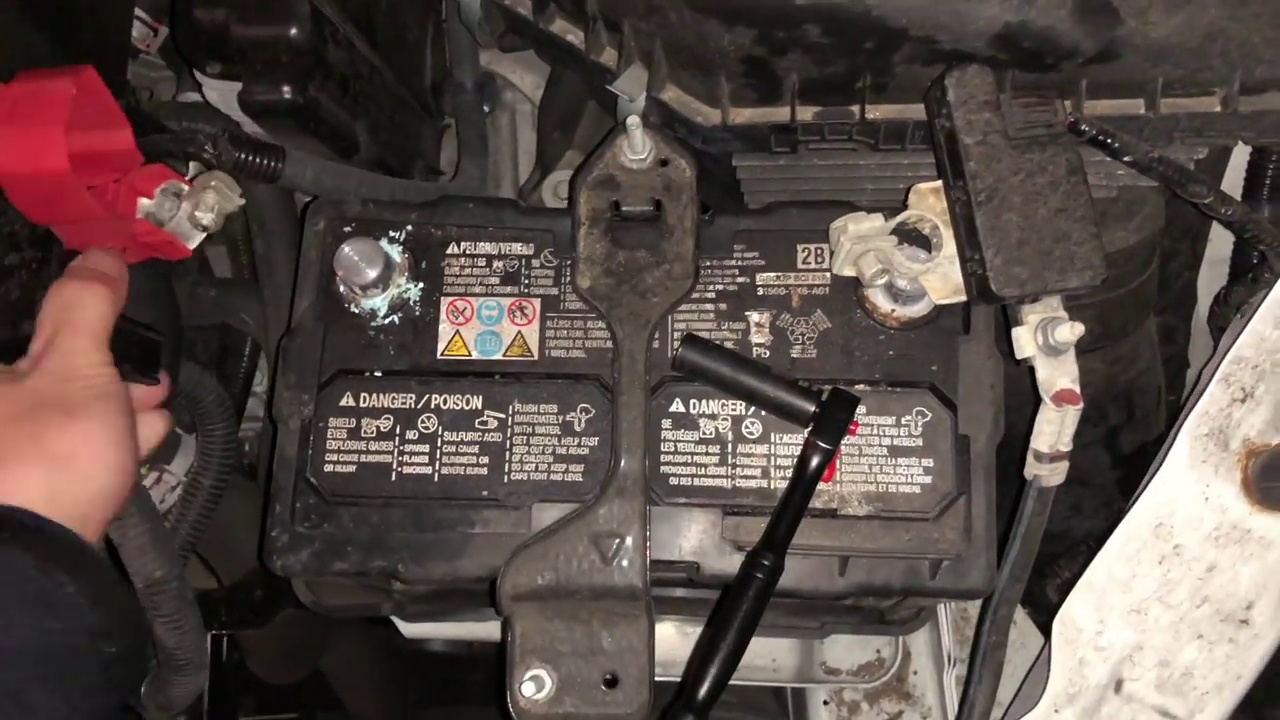battery: (284, 192, 996, 590)
neg_disconnected: (821, 162, 980, 342)
pos_disconnected: (9, 101, 444, 307)
pos_touched: (21, 139, 417, 380)
